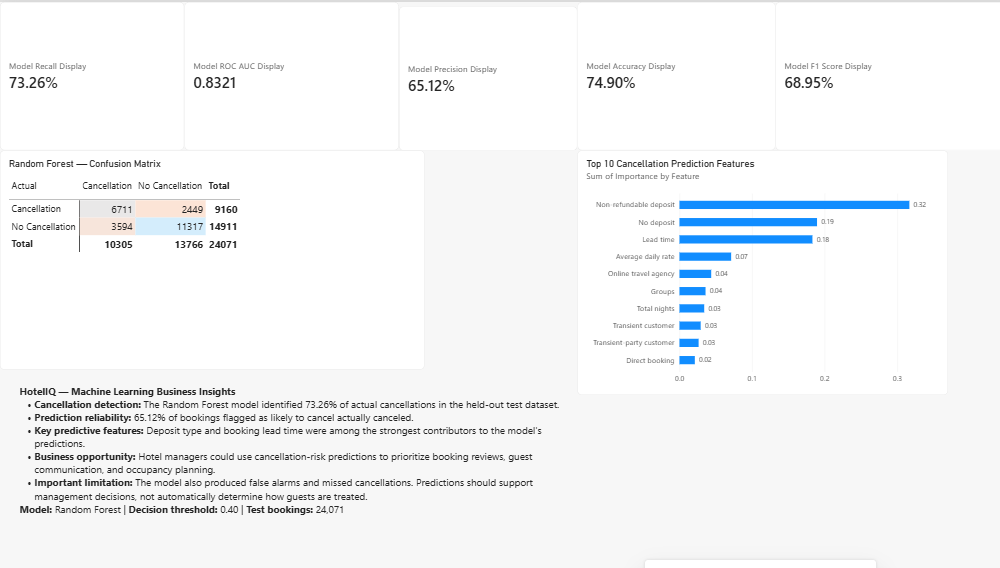

Layout of this report page (visuals, bound fields, positions):
{"tool":"powerbi","page":{"name":"Machine Learning Insights","canvas":[1920,1080],"ordinal":2},"visuals":[{"type":"cardVisual","fields":{"Data":["HotelIQ_Final_Model_Metrics.Model Recall Display"]},"box":[0,0,348.7,280.6],"z":0},{"type":"cardVisual","fields":{"Data":["HotelIQ_Final_Model_Metrics.Model ROC AUC Display"]},"box":[348.7,0,405.4,280.6],"z":1},{"type":"cardVisual","fields":{"Data":["HotelIQ_Final_Model_Metrics.Model Precision Display"]},"box":[754,8.5,337.3,272.1],"z":2},{"type":"cardVisual","fields":{"Data":["HotelIQ_Final_Model_Metrics.Model Accuracy Display"]},"box":[1091.3,0,374.2,280.6],"z":3},{"type":"cardVisual","fields":{"Data":["HotelIQ_Final_Model_Metrics.Model F1 Score Display"]},"box":[1465.5,0,453.5,280.6],"z":4},{"type":"pivotTable","title":"Random Forest — Confusion Matrix","fields":{"Columns":["ML Confusion Matrix.Predicted"],"Rows":["ML Confusion Matrix.Actual"],"Values":["Sum(ML Confusion Matrix.Bookings)"]},"box":[0,280.6,802.2,413.9],"z":5},{"type":"clusteredBarChart","title":"Top 10 Cancellation Prediction Features","fields":{"Category":["HotelIQ_Feature_Importance.Feature"],"Y":["Sum(HotelIQ_Feature_Importance.Importance)"]},"box":[1091.3,280.6,700.2,462.1],"z":6},{"type":"textbox","box":[36.9,722.8,1054.5,357.2],"z":7}]}

Visuals, with their boxes in screenshot pixels (x1, y1, x2, y2), scaled from the page's 1920x1080 canvas onto the 1000x568 screenshot:
cardVisual - HotelIQ_Final_Model_Metrics.Model Recall Display: bbox(0, 0, 182, 148)
cardVisual - HotelIQ_Final_Model_Metrics.Model ROC AUC Display: bbox(182, 0, 393, 148)
cardVisual - HotelIQ_Final_Model_Metrics.Model Precision Display: bbox(393, 4, 568, 148)
cardVisual - HotelIQ_Final_Model_Metrics.Model Accuracy Display: bbox(568, 0, 763, 148)
cardVisual - HotelIQ_Final_Model_Metrics.Model F1 Score Display: bbox(763, 0, 999, 148)
"Random Forest — Confusion Matrix" pivotTable: bbox(0, 148, 418, 365)
"Top 10 Cancellation Prediction Features" clusteredBarChart: bbox(568, 148, 933, 391)
textbox: bbox(19, 380, 568, 567)
